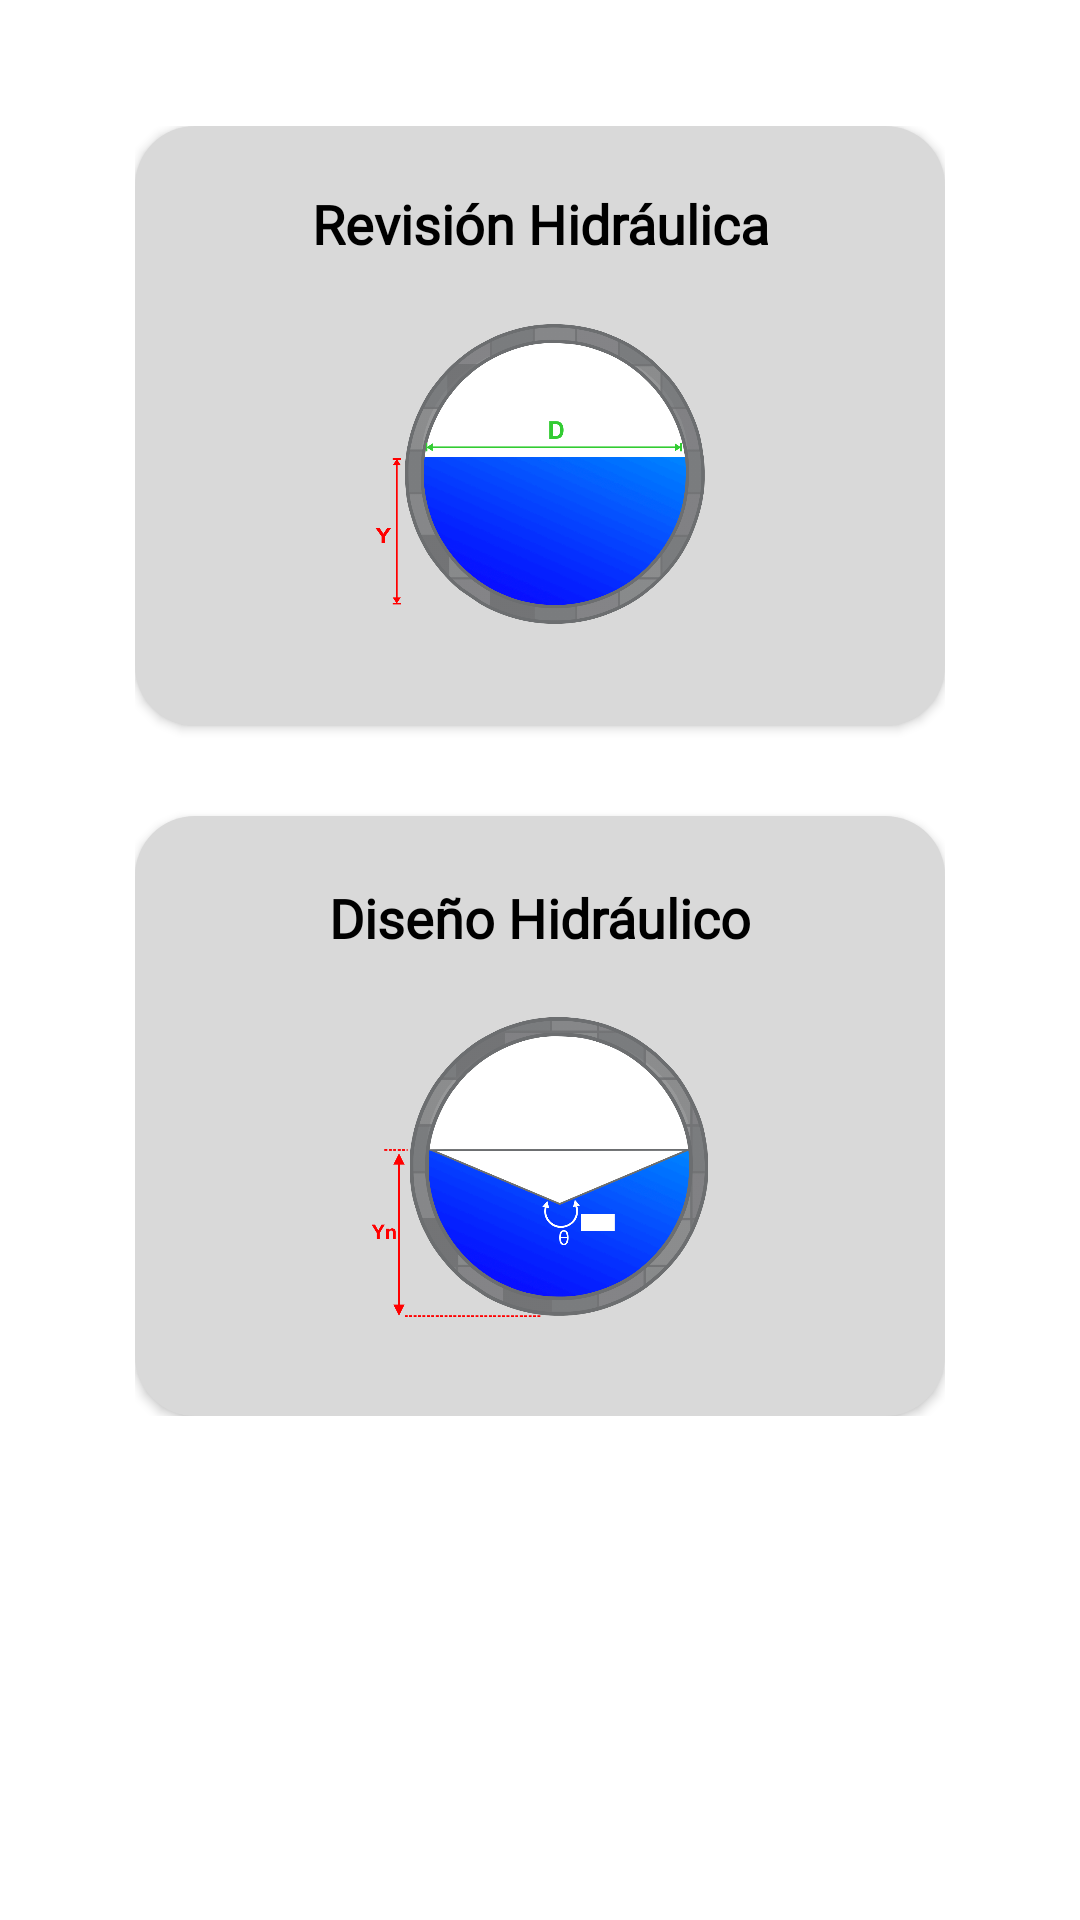

Named icons in this screenshot (1080×1920) and their centers, point (x, y):
circular canal nuv: point (540, 1167)
circular revision: point (540, 474)
